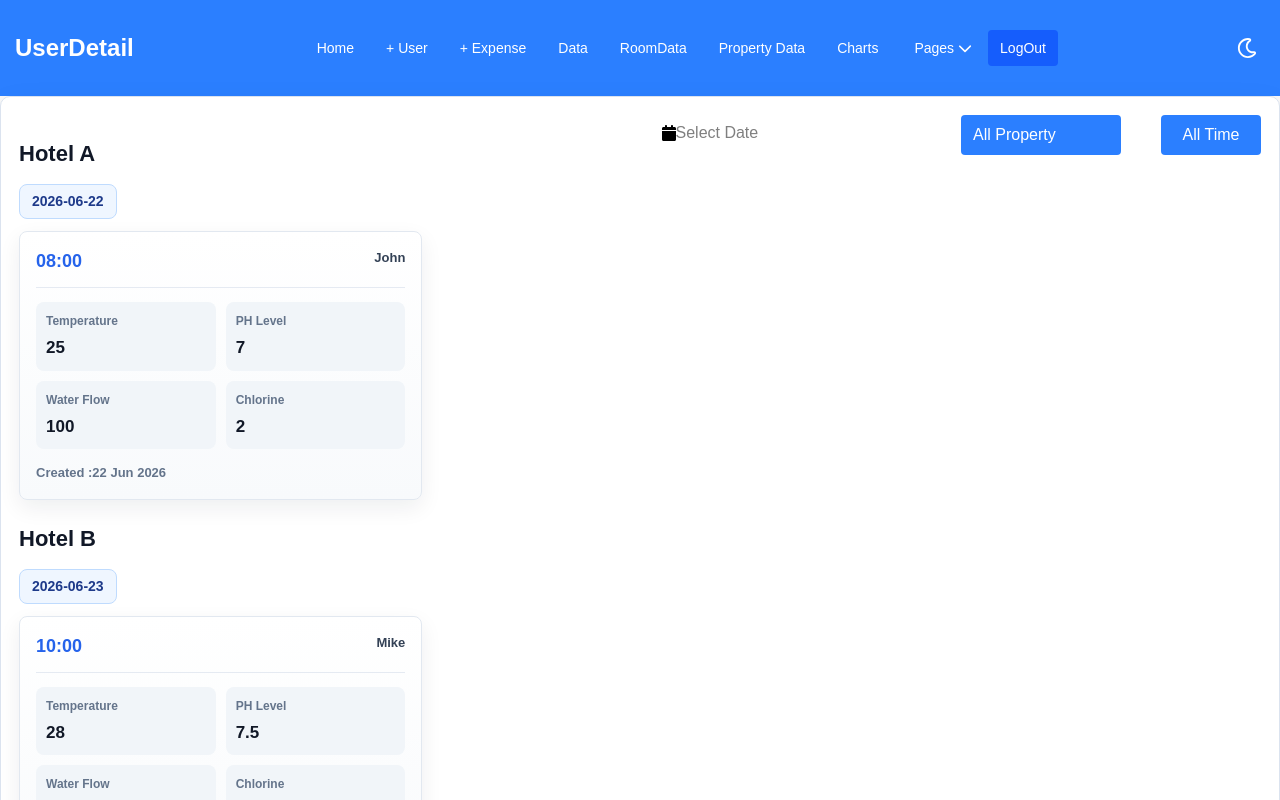
Test: Property Wise Card Testing › filters cards by selected time
expect the text "08:00" is shown: met, box [36,248,82,275]
expect the text "10:00" is shown: met, box [36,632,82,660]
Click the button "All Time".
click(1211, 135)  # box [1161,115,1261,155]
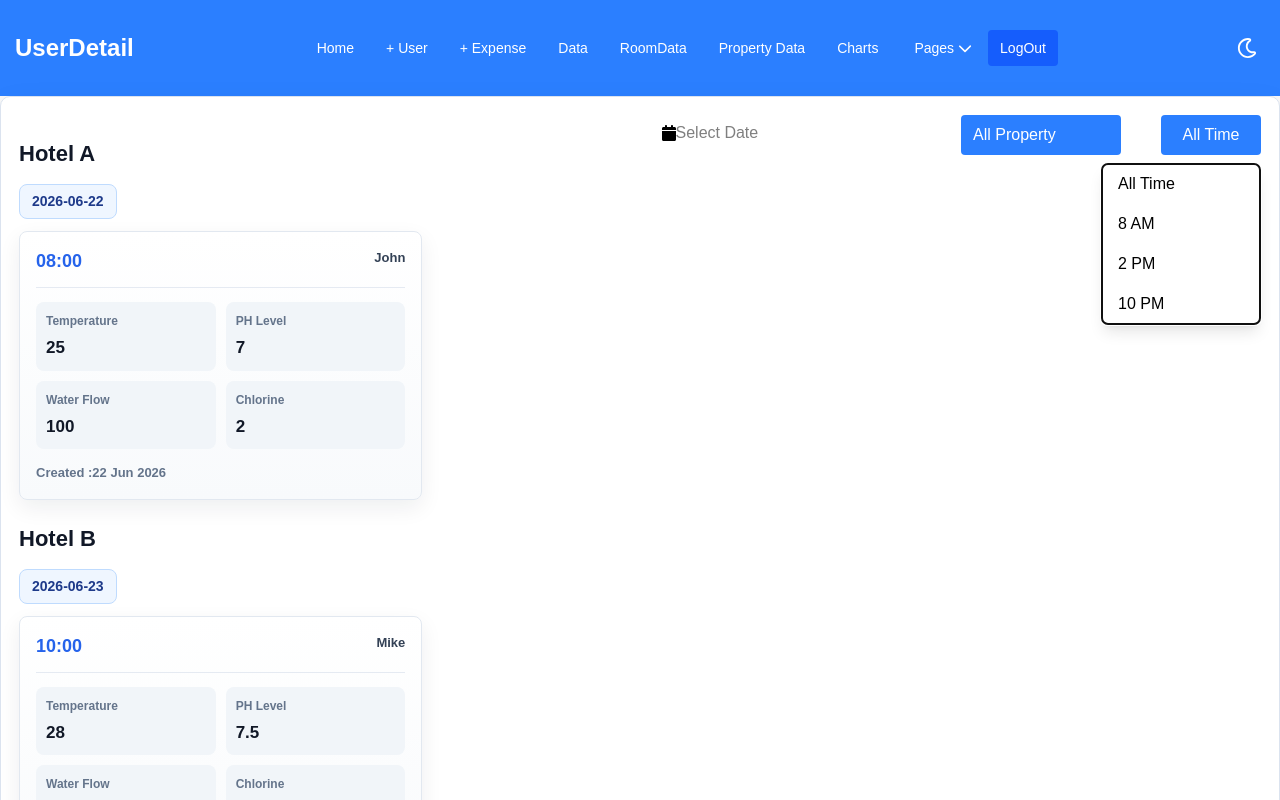
Click the menu item "8 AM".
click(1181, 224)  # box [1102,204,1260,244]
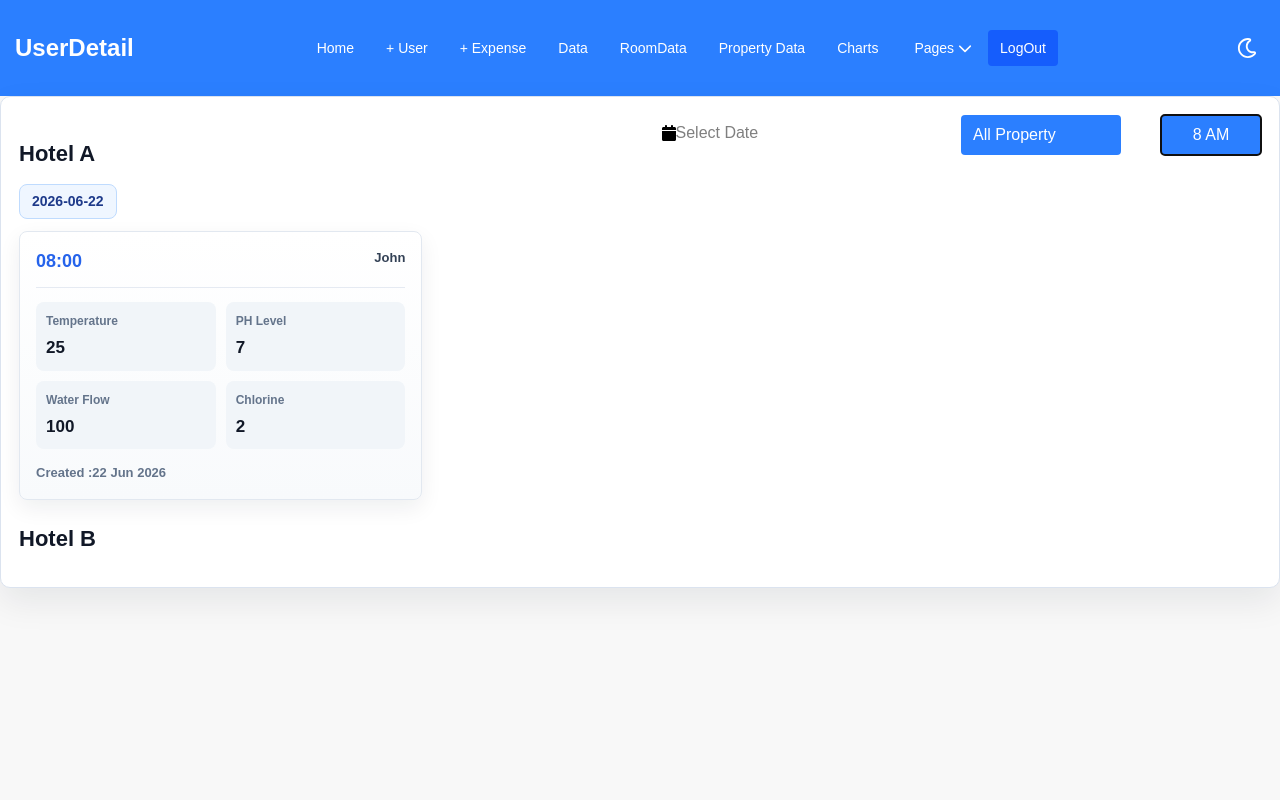
expect the text "08:00" is shown: met, box [36,248,82,275]
expect the text "10:00" is gone: met
